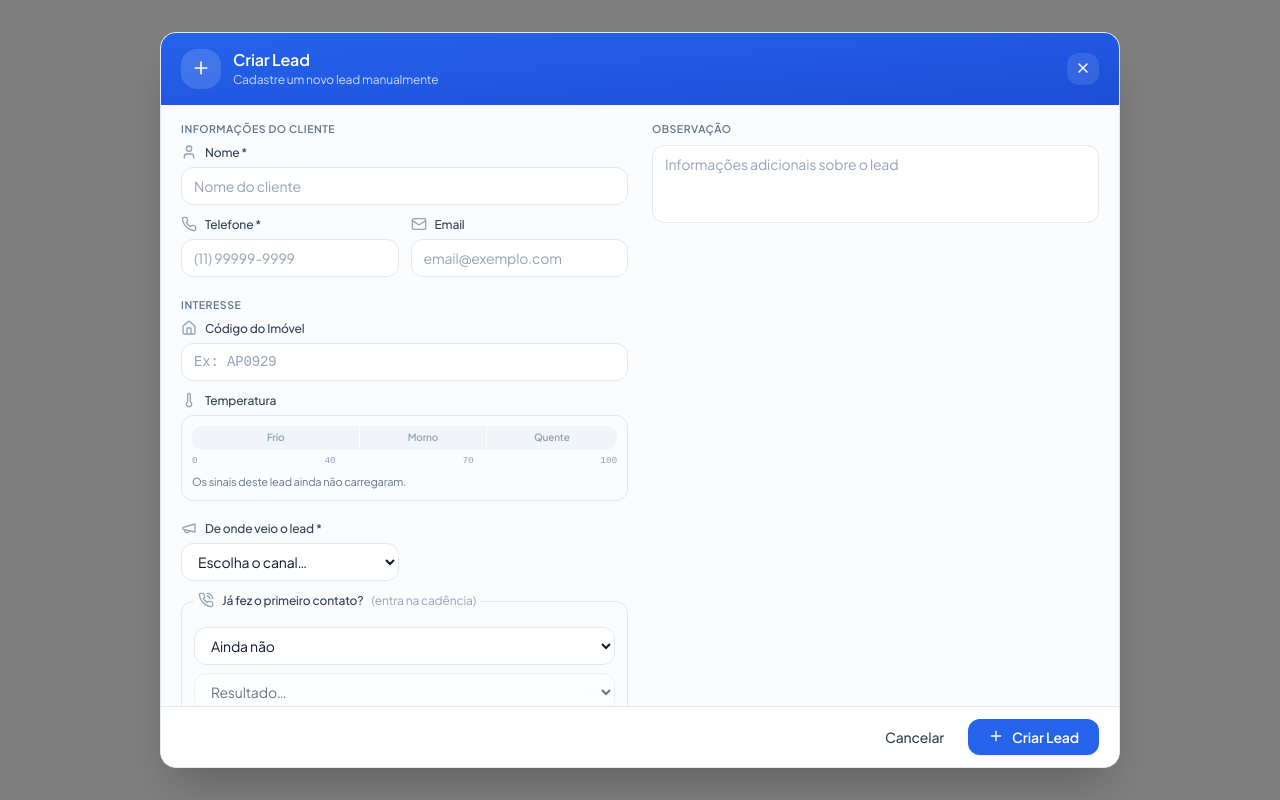
Test: Novo lead: canal e primeiro toque › sem dizer de onde veio, não cria
The width and height of the screenshot is (1280, 800).
In the field with placeholder "Nome do cliente": {"x": 404, "y": 186} [181,167,628,205], type "Beltrano"
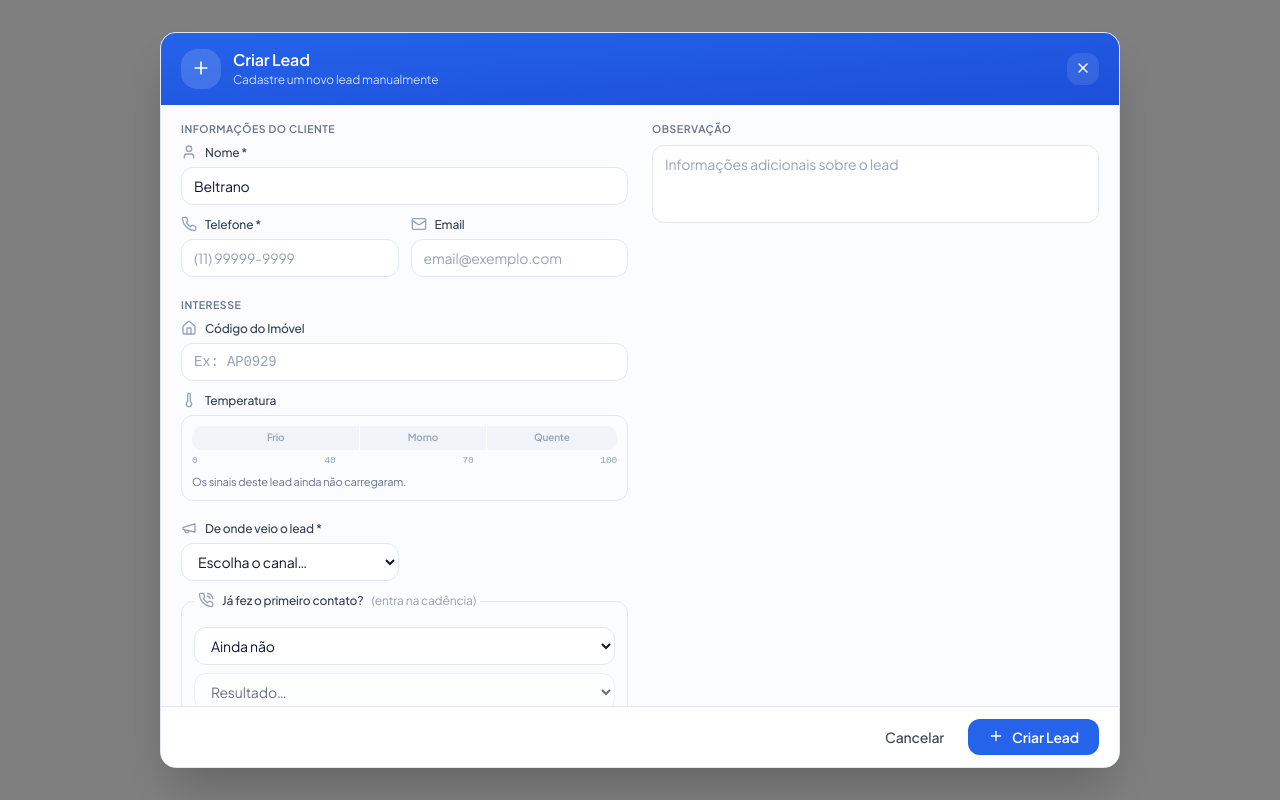
In the field with placeholder "(11) 99999-9999": {"x": 290, "y": 258} [181,239,398,277], type "11988887777"
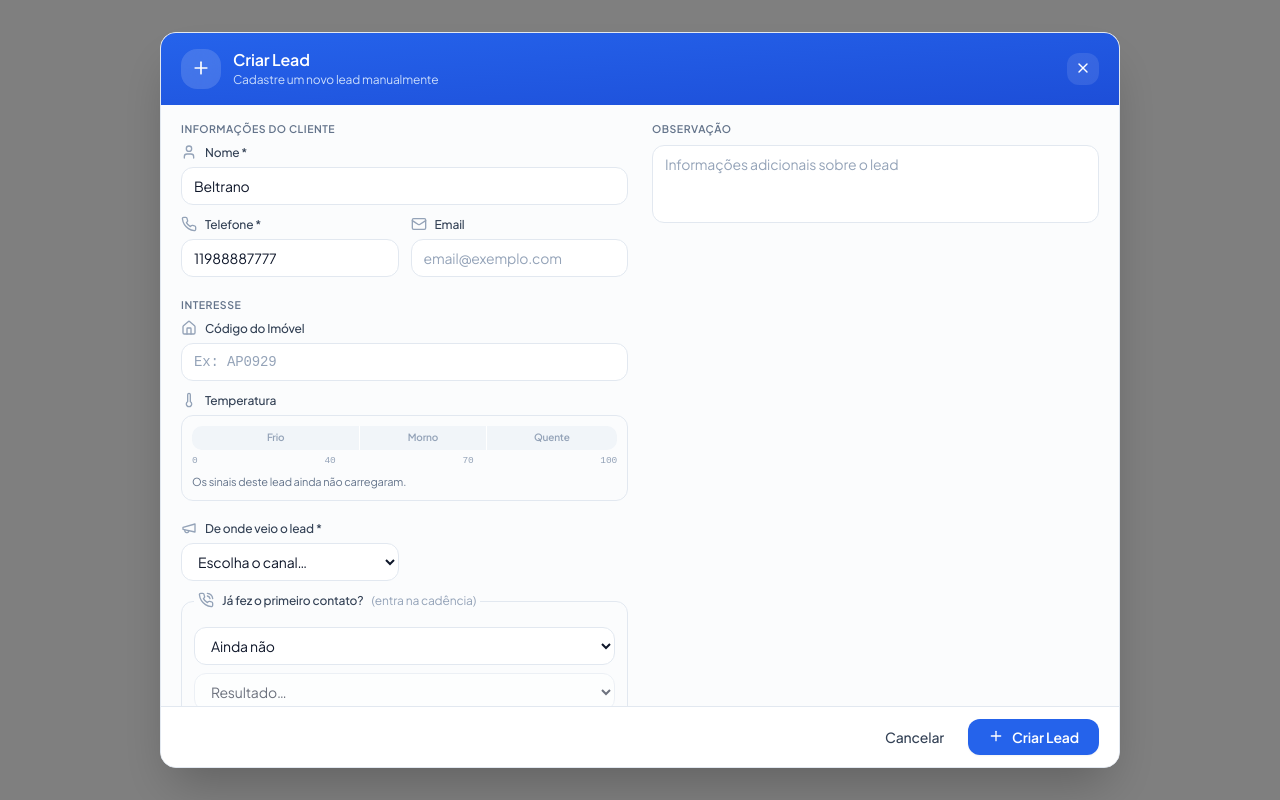
Click the button "Criar Lead": {"x": 1034, "y": 737} [968,719,1099,755]
(page scrolled)
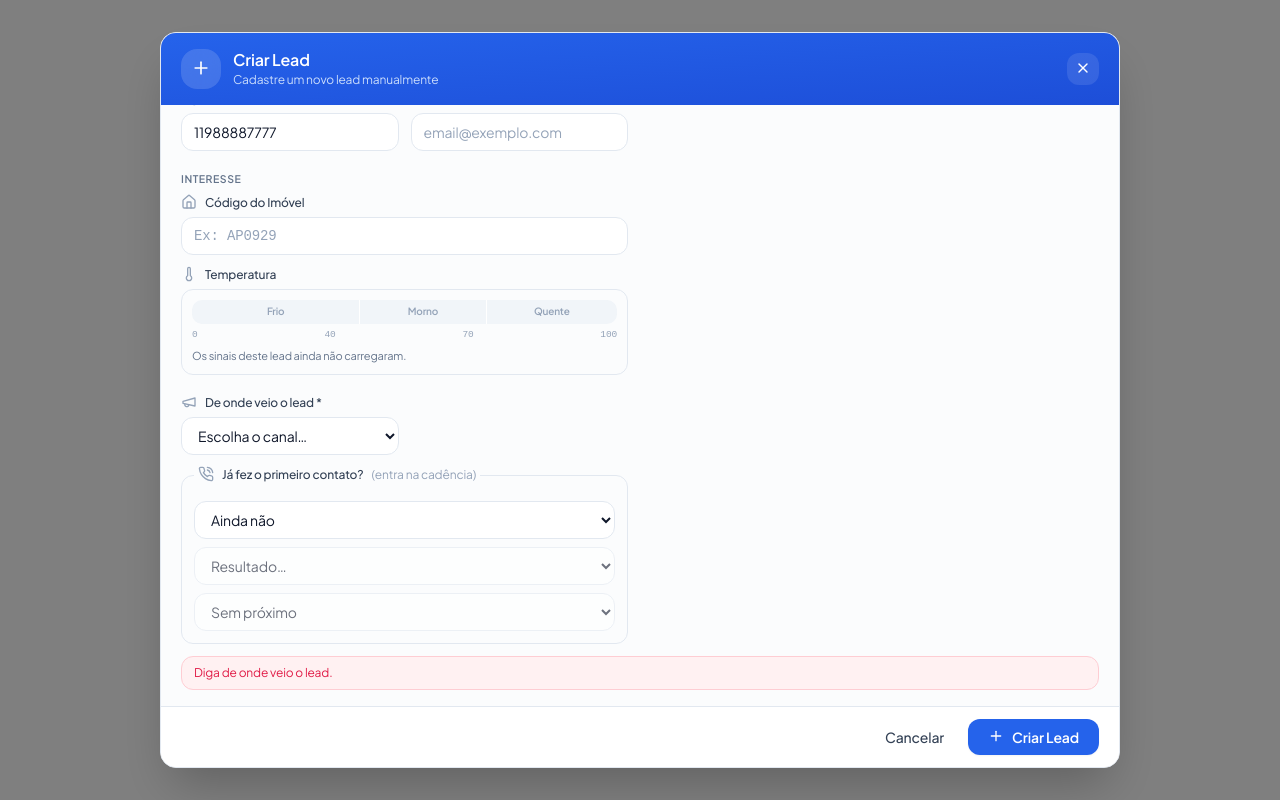
Now the text "Diga de onde veio o lead." is shown, box [181,656,1099,690]
